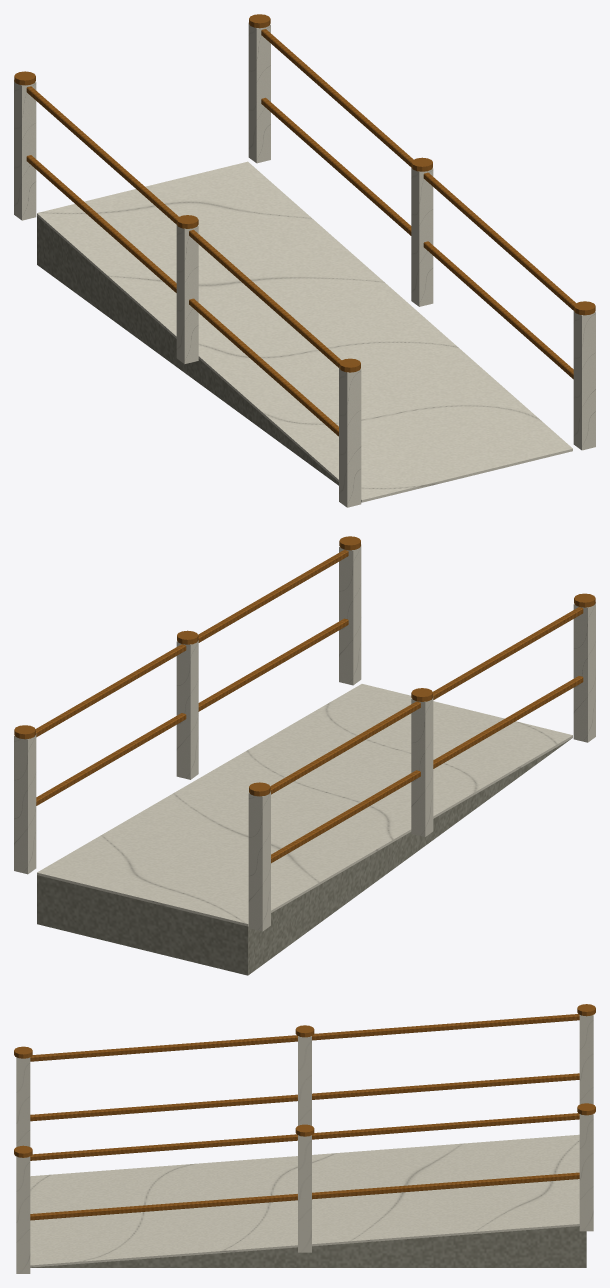
The picture shows the model from 3 angles, top to bottom: view 1: azimuth 30°, elevation 25°; view 2: azimuth 150°, elevation 25°; view 3: azimuth 270°, elevation 25°; orthographic projection. The views are drawn at different scales.
Parts seen in each view (by area): view 1: Separate 20mm marble ramp facing, Stone ramp support, Continuous bronze guardrail.003, Continuous bronze guardrail.001, Continuous bronze guardrail.002, Continuous bronze guardrail, Outside-route guard post, Outside-route guard post.003, Outside-route guard post.005, Outside-route guard post.004, Outside-route guard post.001, Outside-route guard post.002; view 2: Separate 20mm marble ramp facing, Stone ramp support, Outside-route guard post.005, Outside-route guard post.002, Outside-route guard post.003, Outside-route guard post.004, Outside-route guard post.001, Outside-route guard post, Continuous bronze guardrail.003, Continuous bronze guardrail.002, Continuous bronze guardrail, Continuous bronze guardrail.001; view 3: Separate 20mm marble ramp facing, Stone ramp support, Continuous bronze guardrail, Continuous bronze guardrail.002, Continuous bronze guardrail.001, Continuous bronze guardrail.003, Outside-route guard post.005, Outside-route guard post.003, Outside-route guard post.004, Outside-route guard post, Outside-route guard post.002, Outside-route guard post.001.
Part boxes in pixels (bbox=[...]): Separate 20mm marble ramp facing: bbox=[37, 161, 572, 502]; Stone ramp support: bbox=[37, 216, 338, 485]; Continuous bronze guardrail.003: bbox=[261, 29, 575, 310]; Continuous bronze guardrail.001: bbox=[26, 86, 341, 367]; Continuous bronze guardrail.002: bbox=[261, 97, 573, 379]; Continuous bronze guardrail: bbox=[26, 155, 338, 436]; Outside-route guard post: bbox=[339, 367, 361, 507]; Outside-route guard post.003: bbox=[573, 310, 595, 450]; Outside-route guard post.005: bbox=[248, 22, 270, 163]; Outside-route guard post.004: bbox=[411, 167, 433, 306]; Outside-route guard post.001: bbox=[176, 223, 198, 363]; Outside-route guard post.002: bbox=[14, 80, 36, 220]; Separate 20mm marble ramp facing: bbox=[37, 684, 572, 926]; Stone ramp support: bbox=[37, 738, 571, 975]; Outside-route guard post.005: bbox=[14, 733, 36, 874]; Outside-route guard post.002: bbox=[248, 791, 270, 931]; Outside-route guard post.003: bbox=[339, 544, 361, 685]; Outside-route guard post.004: bbox=[176, 640, 198, 779]; Outside-route guard post.001: bbox=[411, 696, 433, 836]; Outside-route guard post: bbox=[573, 602, 595, 742]; Continuous bronze guardrail.003: bbox=[35, 550, 348, 737]; Continuous bronze guardrail.002: bbox=[36, 618, 348, 805]; Continuous bronze guardrail: bbox=[271, 676, 583, 863]; Continuous bronze guardrail.001: bbox=[270, 607, 583, 794]; Separate 20mm marble ramp facing: bbox=[30, 1134, 579, 1267]; Stone ramp support: bbox=[30, 1226, 586, 1267]; Continuous bronze guardrail: bbox=[30, 1073, 579, 1121]; Continuous bronze guardrail.002: bbox=[30, 1172, 579, 1220]; Continuous bronze guardrail.001: bbox=[30, 1014, 579, 1061]; Continuous bronze guardrail.003: bbox=[30, 1113, 579, 1160]; Outside-route guard post.005: bbox=[579, 1114, 593, 1231]; Outside-route guard post.003: bbox=[16, 1156, 30, 1273]; Outside-route guard post.004: bbox=[298, 1135, 311, 1252]; Outside-route guard post: bbox=[16, 1057, 30, 1146]; Outside-route guard post.002: bbox=[579, 1015, 593, 1104]; Outside-route guard post.001: bbox=[298, 1036, 311, 1125].
Bounding box in the file's own units: 2.16 × 1.56 × 4.96.
Materials: 3 (3 with a texture image).
